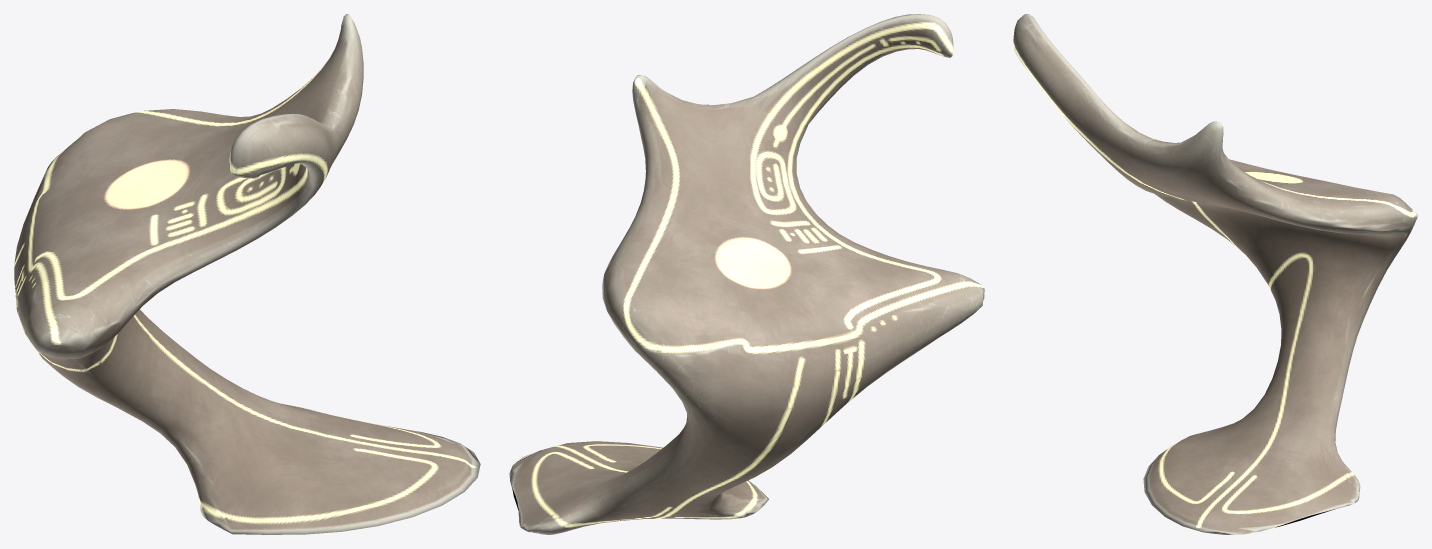
File: laps2.glb
3 renders of one model, left to right at view 1: azimuth 30°, elevation 25°; view 2: azimuth 150°, elevation 25°; view 3: azimuth 270°, elevation 25°, orthographic. The views are drawn at different scales.
Visible parts, largest first — view 1: Group47878, Group49749, Group1812; view 2: Group49749, Group1812, Group47878; view 3: Group47878, Group49749, Group1812.
Part boxes in pixels (left/top/right/bottom): Group47878: left=73, top=14, right=480, bottom=534; Group49749: left=31, top=26, right=347, bottom=341; Group1812: left=14, top=172, right=231, bottom=533; Group49749: left=602, top=14, right=984, bottom=355; Group1812: left=529, top=289, right=984, bottom=534; Group47878: left=509, top=50, right=926, bottom=531; Group47878: left=1013, top=20, right=1407, bottom=534; Group49749: left=1018, top=14, right=1417, bottom=231; Group1812: left=1322, top=222, right=1415, bottom=494.
Bounding box in the file's own units: 3.57 × 3.56 × 3.34.
2 materials, 2 textured.
